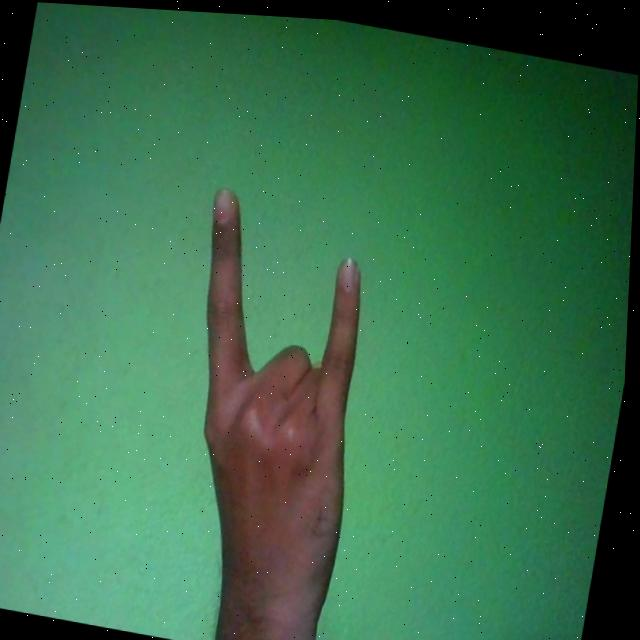Rock On: (146, 180, 396, 640)
